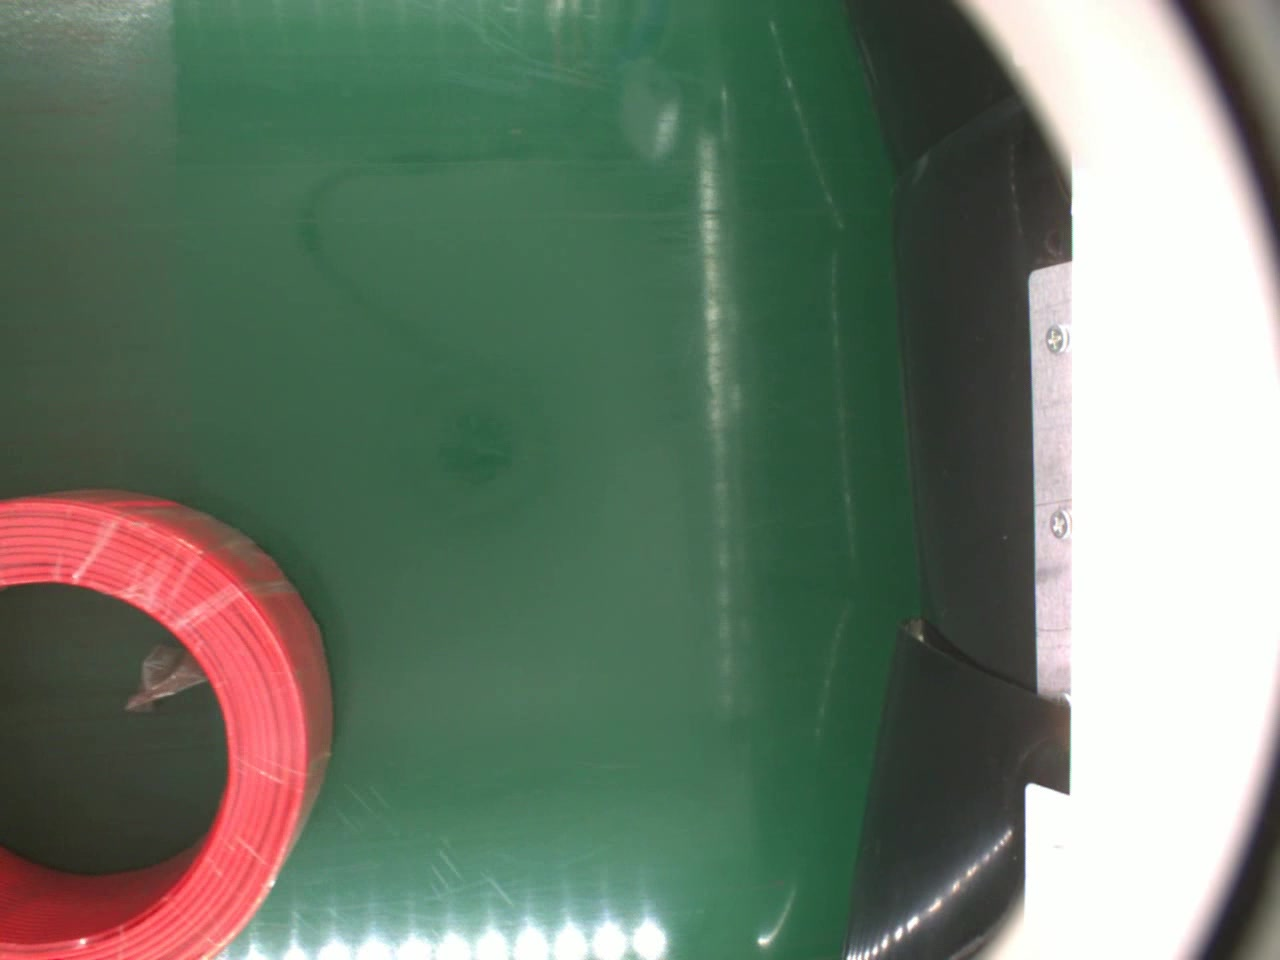red: (0, 490, 341, 960)
